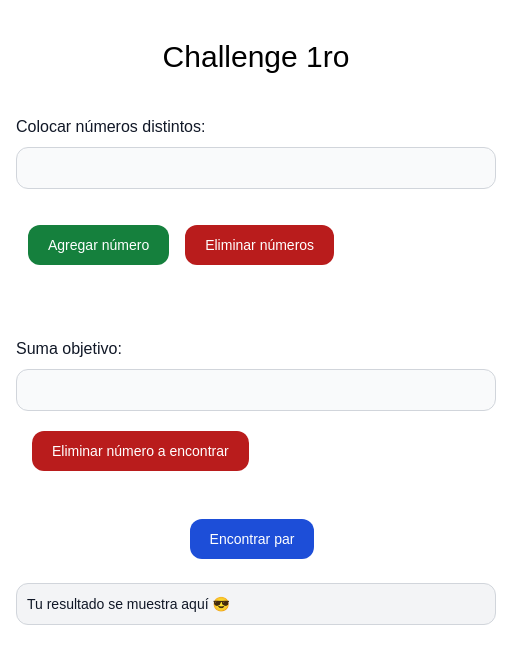
Test: FirstChallengeScreen › should allow adding numbers and display the list
The width and height of the screenshot is (513, 671).
Simula agregar un número
Type "5" into the field labelled "Colocar números distintos:".
click(256, 168); type("5")  # box 16,147 -> 496,189
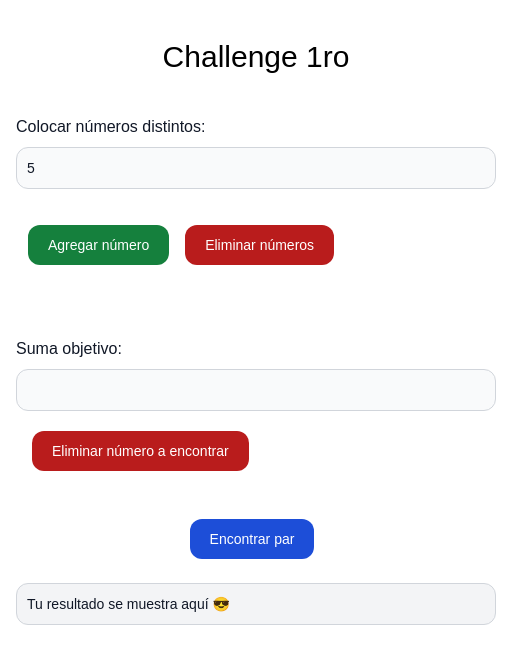
Click the button "Agregar número".
click(99, 245)  # box 28,225 -> 169,265
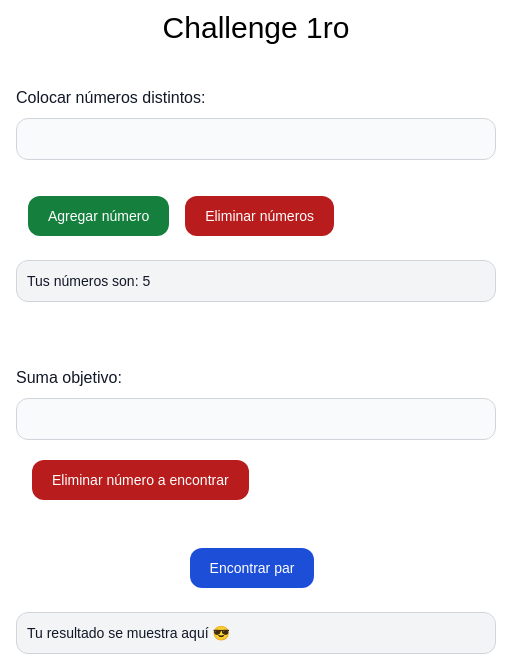
Expected: the field showing "Tus números son: 5" is shown, 16,260 -> 496,302
